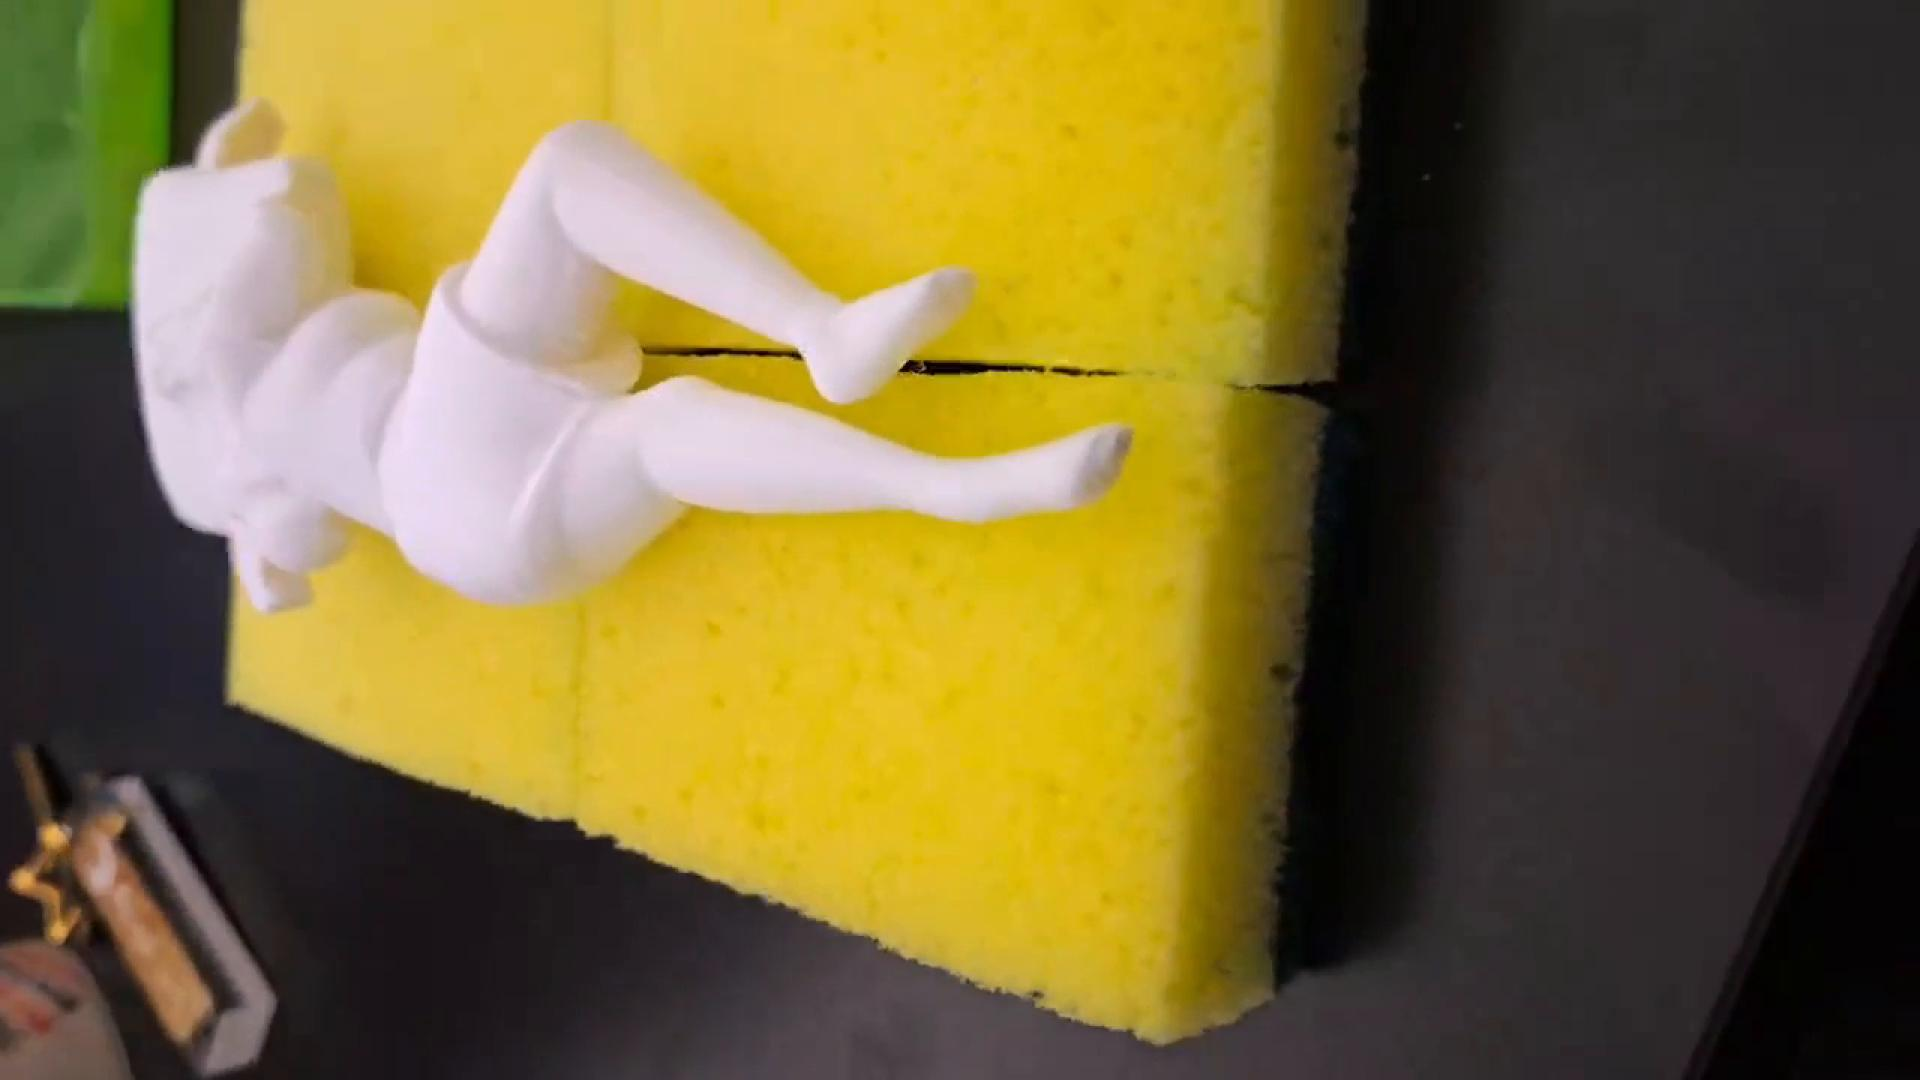Good-style: (124, 91, 1138, 624)
